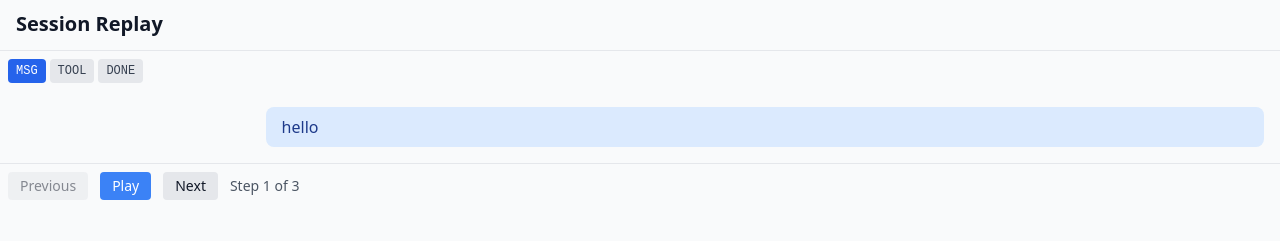
Scenario: ReplayPage › Previous is disabled on first step; Next disabled on last
The width and height of the screenshot is (1280, 241).
expect the text "Step 1 of 3" is shown: met, box [230,176,299,196]
expect the button "Previous" is disabled: met, box [8,172,88,200]
Note: Navigate to last step
Click the button "Next". click: (191, 186)
box: [163,172,218,200]
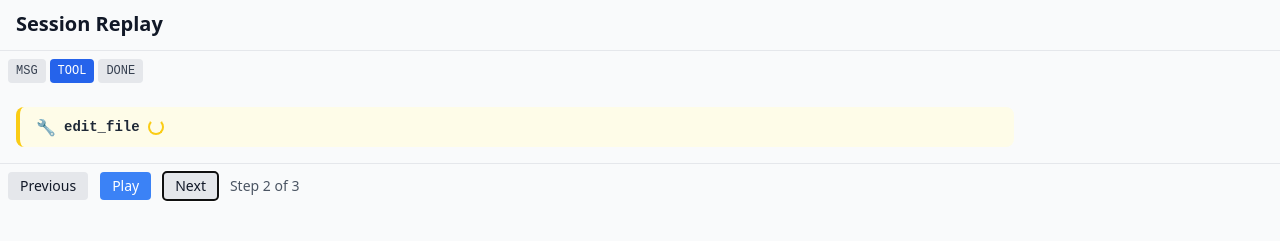
Click the button "Next". click: (191, 186)
box: [163,172,218,200]
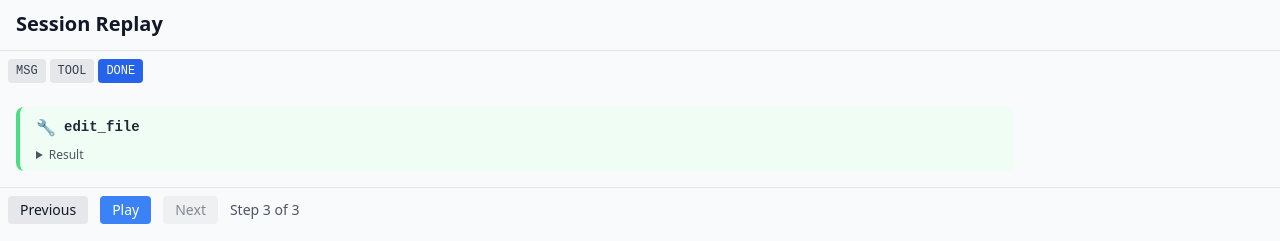
expect the button "Previous" is enabled: met, box [8,196,88,224]
expect the text "Step 3 of 3" is shown: met, box [230,200,299,220]
expect the button "Next" is disabled: met, box [163,196,218,224]
